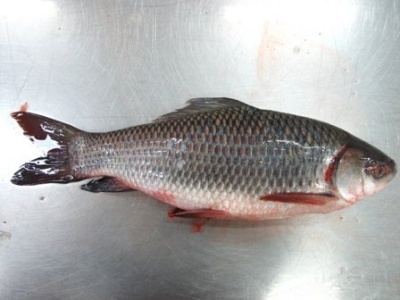rohu: (7, 88, 398, 233)
